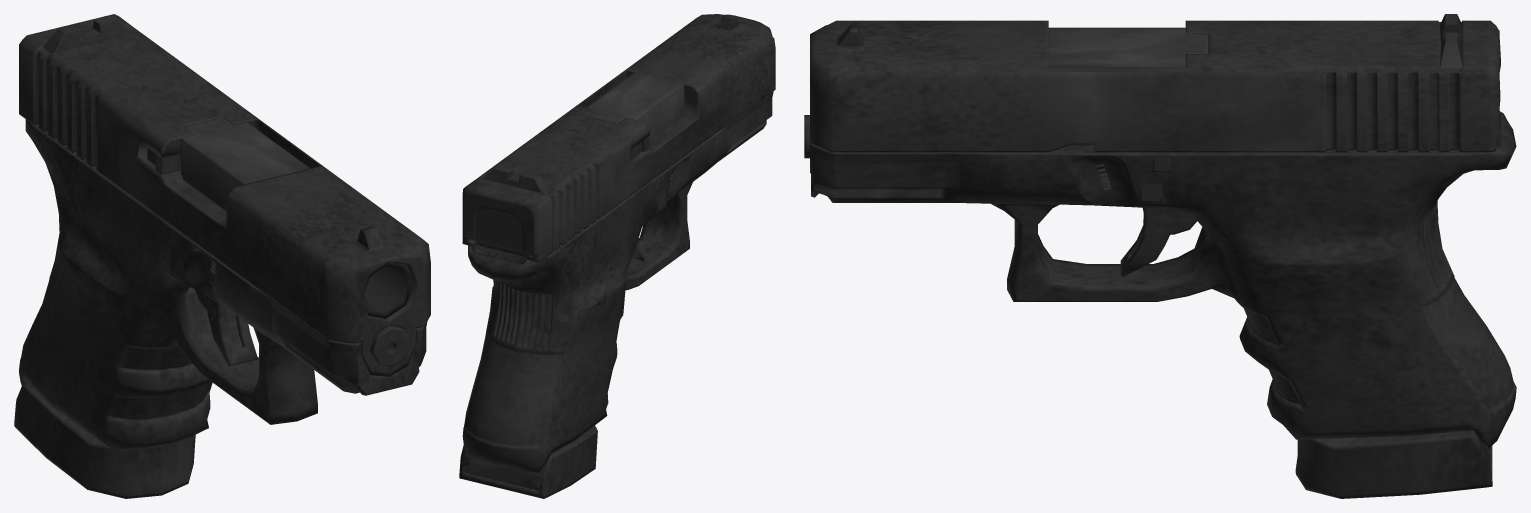
The model's file is glock.fbx.
3 renders of one model, left to right at view 1: azimuth 30°, elevation 25°; view 2: azimuth 150°, elevation 25°; view 3: azimuth 270°, elevation 25°, orthographic. The views are drawn at different scales.
Visible parts, largest first — view 1: Plane.007, Plane.008; view 2: Plane.007, Plane.008; view 3: Plane.007, Plane.008.
Part boxes in pixels (x1,y1,x2,y2): Plane.007: (14,119,427,498); Plane.008: (19,14,430,376); Plane.007: (459,91,773,498); Plane.008: (462,14,775,262); Plane.007: (811,111,1516,498); Plane.008: (804,14,1500,173).
Bounding box in the file's own units: 0.7301 × 2.26 × 3.27.
